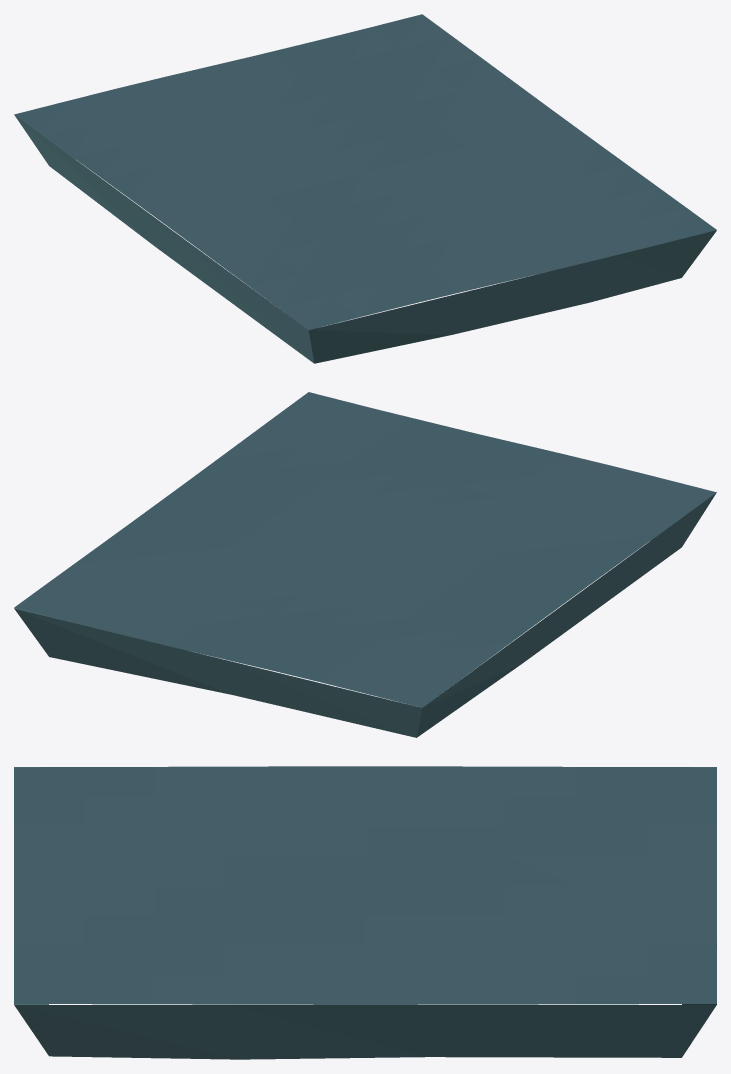
Rendered from terrain-main.glb.
The picture shows the model from 3 angles, top to bottom: view 1: azimuth 30°, elevation 25°; view 2: azimuth 150°, elevation 25°; view 3: azimuth 270°, elevation 25°; orthographic projection. The views are drawn at different scales.
Visible parts, largest first — view 1: LMW_Plateau, LMW_Island_cut; view 2: LMW_Plateau, LMW_Island_cut; view 3: LMW_Plateau, LMW_Island_cut.
Part boxes in pixels (x1,y1,x2,y2): LMW_Plateau: (14,14,716,329); LMW_Island_cut: (14,35,716,363); LMW_Plateau: (14,392,716,707); LMW_Island_cut: (14,412,716,737); LMW_Plateau: (14,766,716,1004); LMW_Island_cut: (14,767,716,1059).
Size of the model in its own units: 40 by 5.32 by 50.
